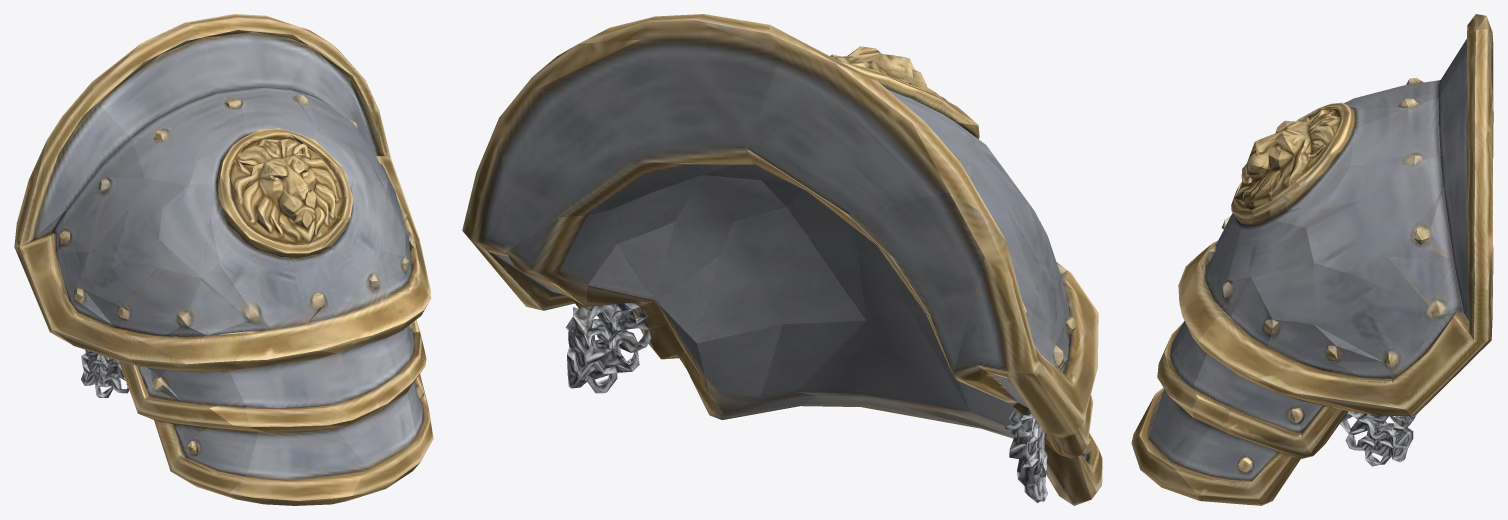
The model's file is arsenale-spalle.glb.
The picture shows the model from 3 angles, left to right: view 1: azimuth 30°, elevation 25°; view 2: azimuth 150°, elevation 25°; view 3: azimuth 270°, elevation 25°; orthographic projection. The views are drawn at different scales.
Visible parts, largest first — view 1: Mesh_0; view 2: Mesh_0; view 3: Mesh_0.
Boxes of the visible parts, box(x1,y1,x2,y2) form: Mesh_0: box(14, 14, 433, 505); Mesh_0: box(462, 14, 1102, 505); Mesh_0: box(1131, 14, 1493, 505).
Bounding box in the file's own units: 1.9 × 1.81 × 1.41.
1 material, 1 textured.
